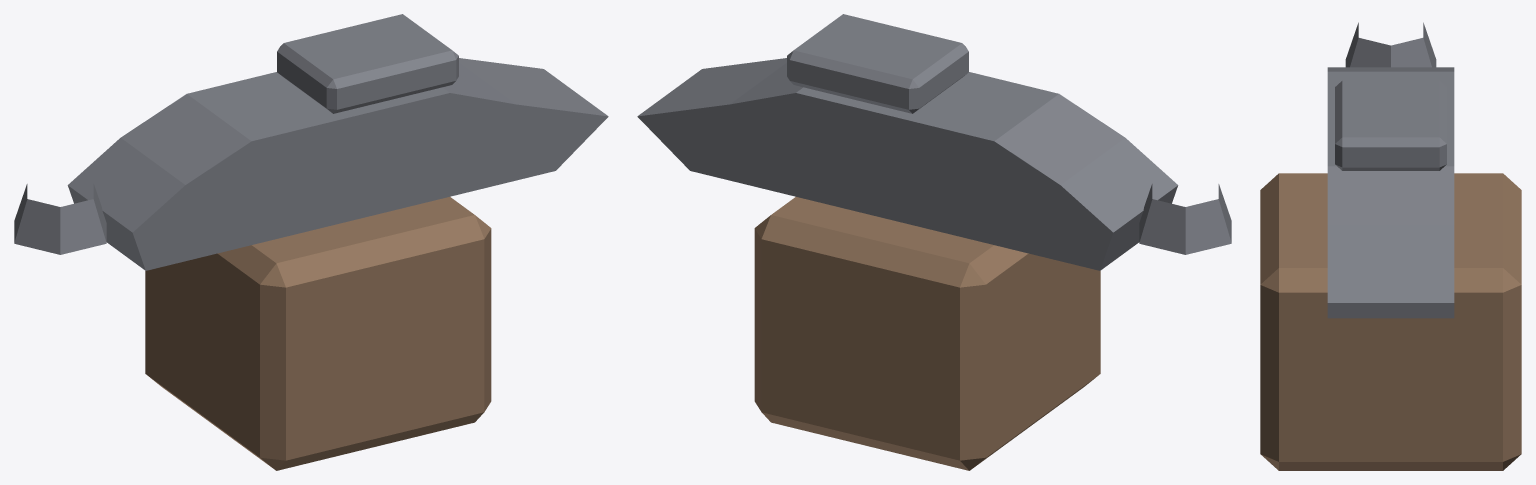
File: anvil.glb
The picture shows the model from 3 angles, left to right: view 1: azimuth 30°, elevation 25°; view 2: azimuth 150°, elevation 25°; view 3: azimuth 270°, elevation 25°; orthographic projection. The views are drawn at different scales.
Visible parts, largest first — view 1: anvil; view 2: anvil; view 3: anvil.
Boxes of the visible parts, <box> form: anvil: <box>14,14,608,470</box>; anvil: <box>637,14,1231,470</box>; anvil: <box>1260,22,1521,470</box>.
Bounding box in the file's own units: 1.7 × 1 × 0.7.
